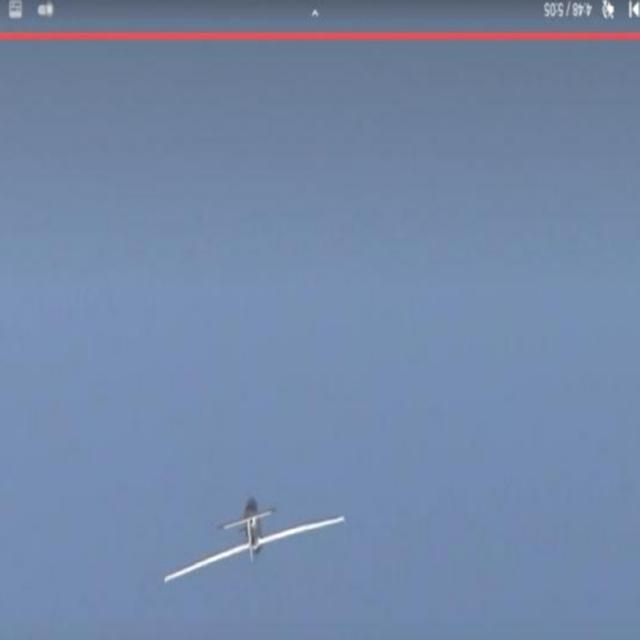plane: (164, 496, 347, 587)
